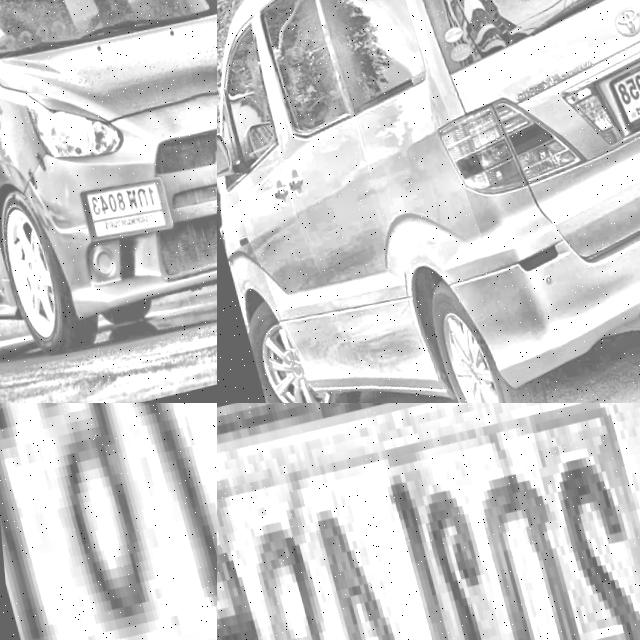license-plate: (217, 403, 640, 640), (0, 403, 217, 640), (65, 175, 165, 245), (591, 46, 640, 144)
